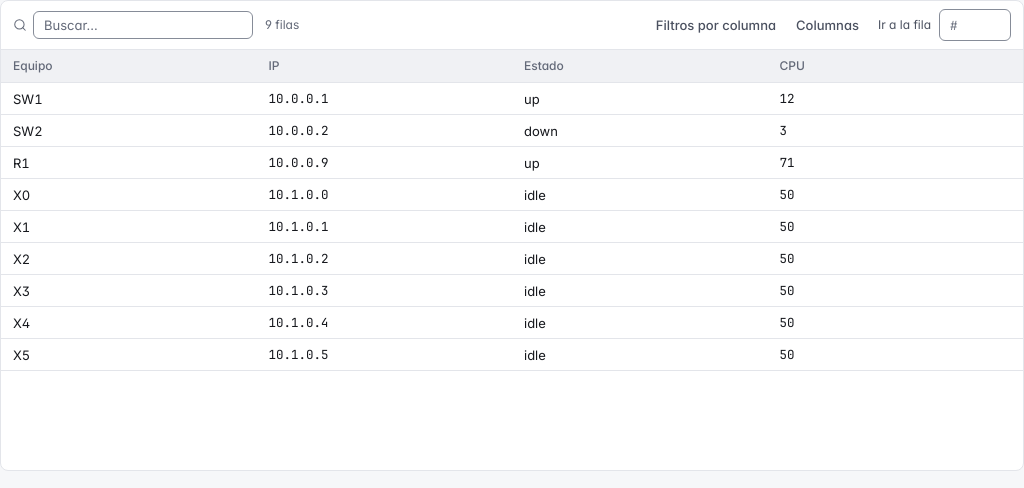
busca en todas las columnas
This screenshot has width=1024, height=488.
In the field named "Buscar en la tabla": (143, 25) [33,11,253,39], type "10.0.0.9"
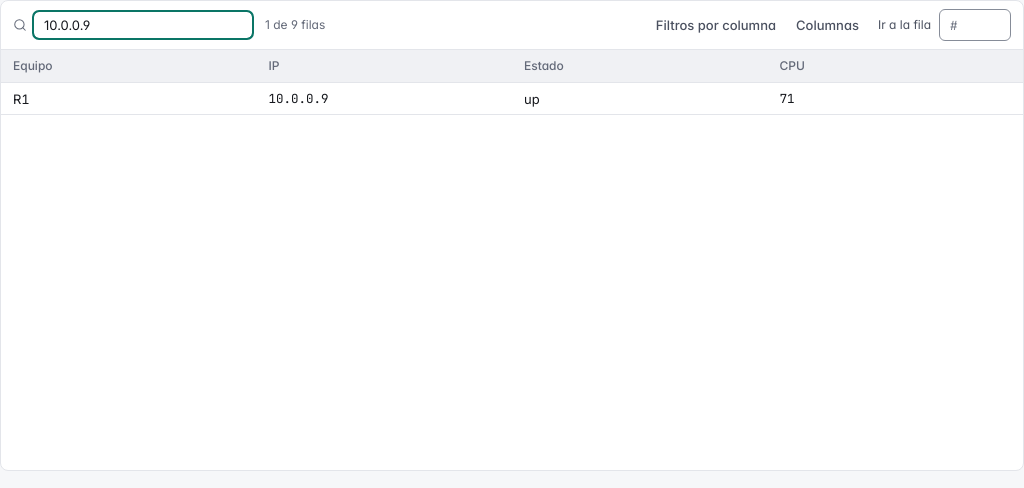
Check: the row "R1 10.0.0.9 up 71" is shown, box [1,83,1023,115]
Check: the text "1 de 9 filas" is shown, box [265,15,325,35]
